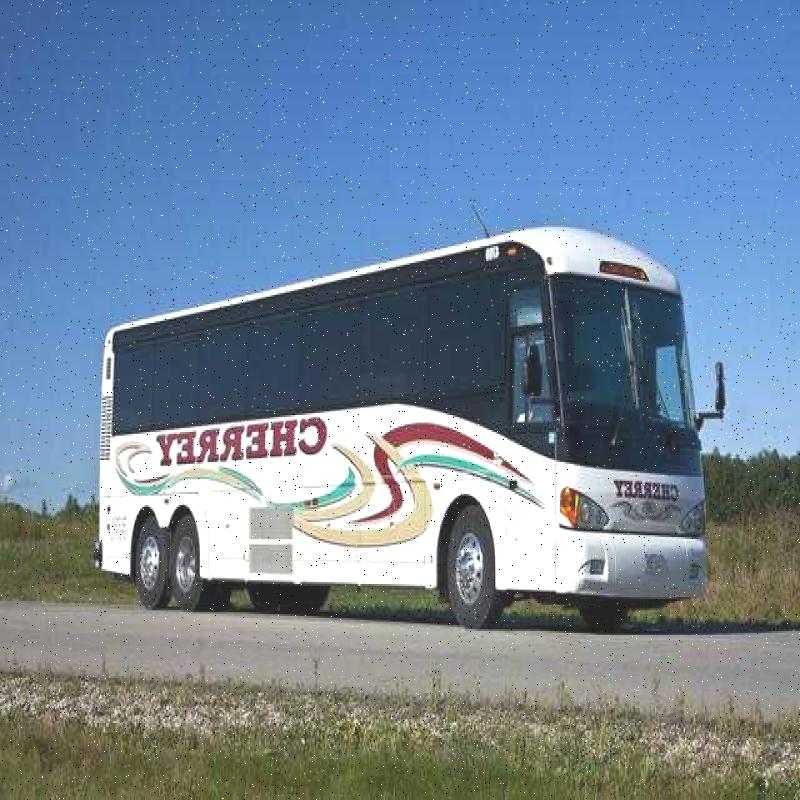bus: (96, 154, 722, 616)
